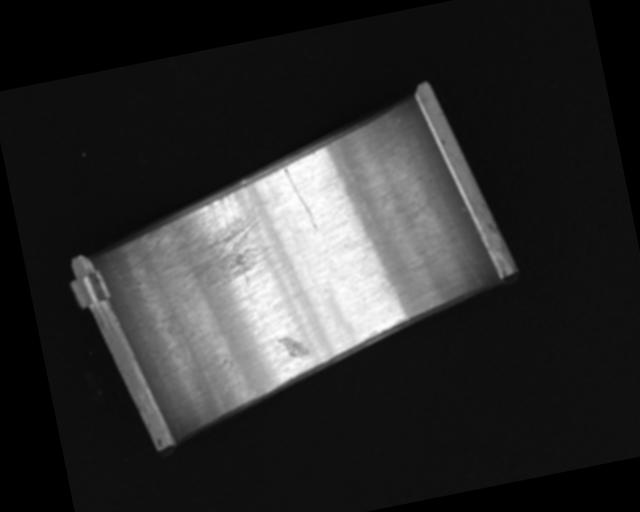bruise: (277, 333, 310, 360)
nick: (414, 191, 483, 297), (283, 162, 319, 233)
scratch: (134, 178, 277, 304)
